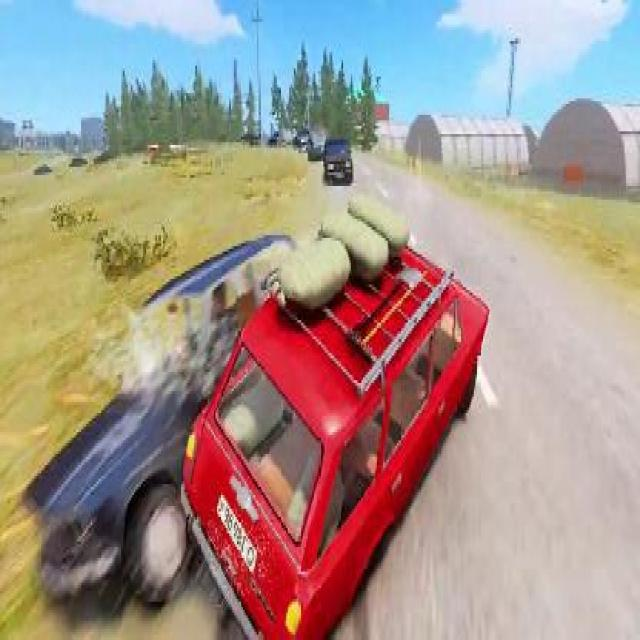accident: (23, 172, 491, 638)
